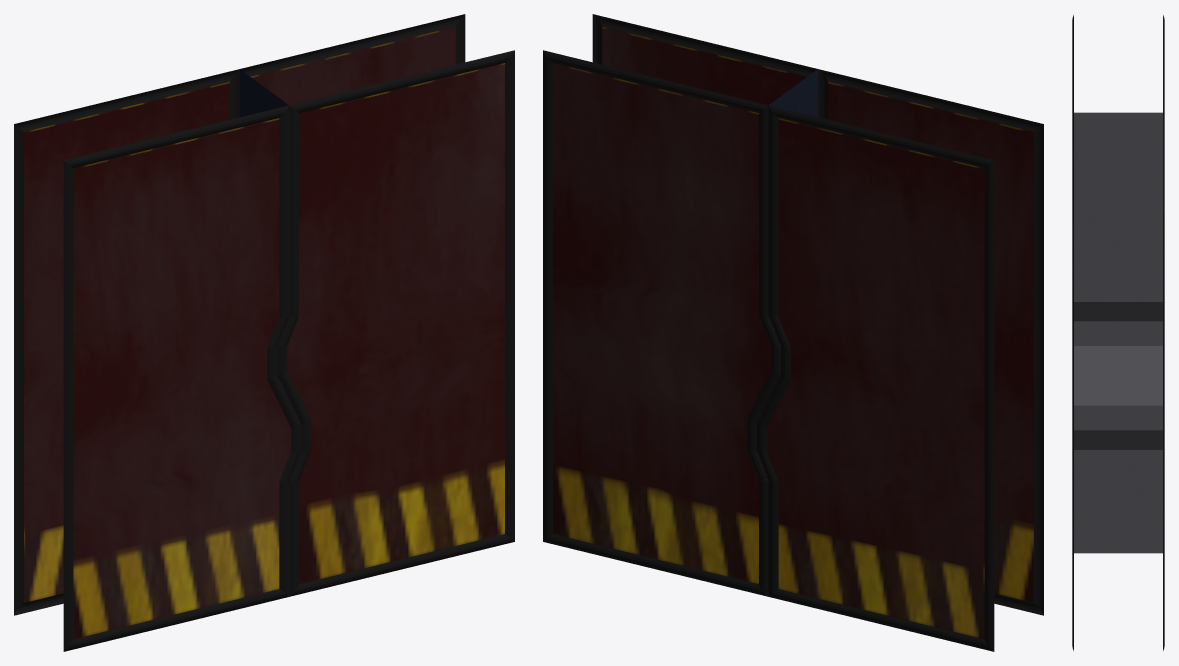
File: door-frame-locked_000000.obj
3 renders of one model, left to right at view 1: azimuth 30°, elevation 25°; view 2: azimuth 150°, elevation 25°; view 3: azimuth 270°, elevation 25°, orthographic. The views are drawn at different scales.
Visible parts, largest first — view 1: Door.Right_Cube.006, Door.Left_Cube.007; view 2: Door.Right_Cube.006, Door.Left_Cube.007; view 3: Door.Left_Cube.007, Door.Right_Cube.006.
Boxes of the visible parts, x1,y1,x2,y2 form: Door.Right_Cube.006: (14, 69, 300, 651); Door.Left_Cube.007: (240, 14, 514, 596); Door.Right_Cube.006: (757, 69, 1043, 651); Door.Left_Cube.007: (543, 14, 817, 596); Door.Left_Cube.007: (1072, 112, 1164, 650); Door.Right_Cube.006: (1072, 15, 1164, 117).
Size of the model in its own units: 5.05 by 5.26 by 0.9998.
6 materials, 6 textured.
